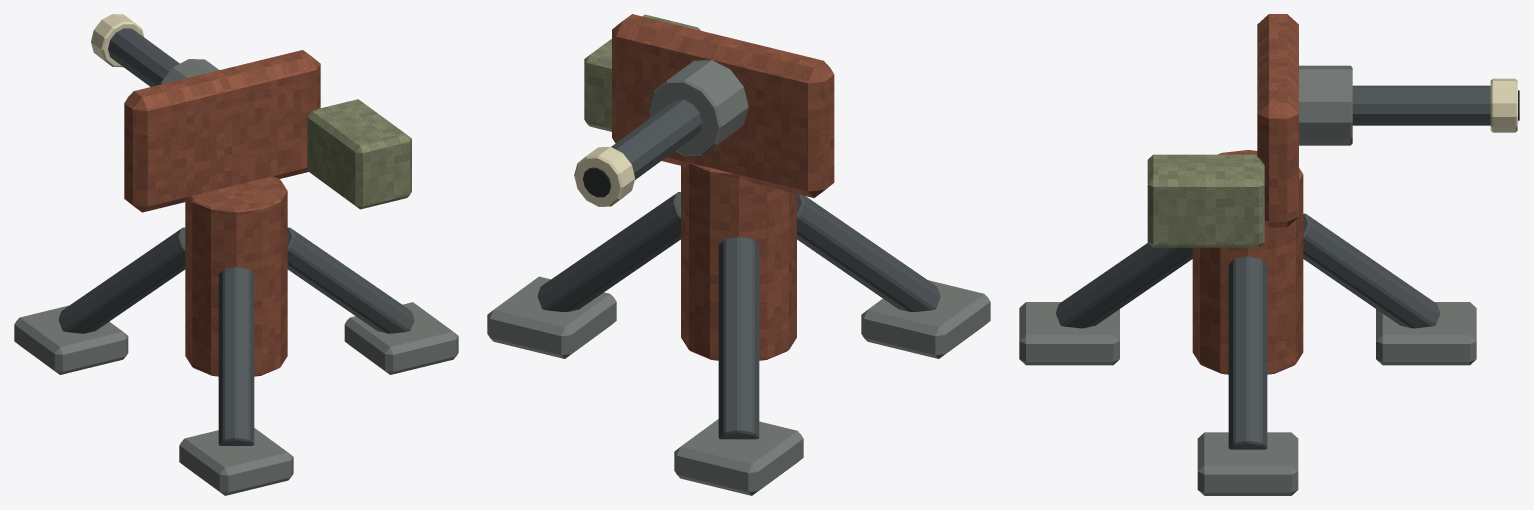
The picture shows the model from 3 angles, left to right: view 1: azimuth 30°, elevation 25°; view 2: azimuth 150°, elevation 25°; view 3: azimuth 270°, elevation 25°; orthographic projection. The views are drawn at different scales.
Visible parts, largest first — view 1: ST2-E05_Mesh, TurretYaw_Mesh, BarrelRecoil_Mesh; view 2: ST2-E05_Mesh, TurretYaw_Mesh, BarrelRecoil_Mesh; view 3: ST2-E05_Mesh, TurretYaw_Mesh, BarrelRecoil_Mesh.
Part boxes in pixels (<box>): ST2-E05_Mesh: <box>14,176,458,495</box>; TurretYaw_Mesh: <box>124,50,411,212</box>; BarrelRecoil_Mesh: <box>91,14,219,86</box>; ST2-E05_Mesh: <box>487,164,990,495</box>; TurretYaw_Mesh: <box>584,14,834,197</box>; BarrelRecoil_Mesh: <box>574,60,748,206</box>; ST2-E05_Mesh: <box>1019,150,1476,495</box>; TurretYaw_Mesh: <box>1147,14,1298,247</box>; BarrelRecoil_Mesh: <box>1299,65,1519,145</box>.
Size of the model in its own units: 2.4 by 2.2 by 2.99.
